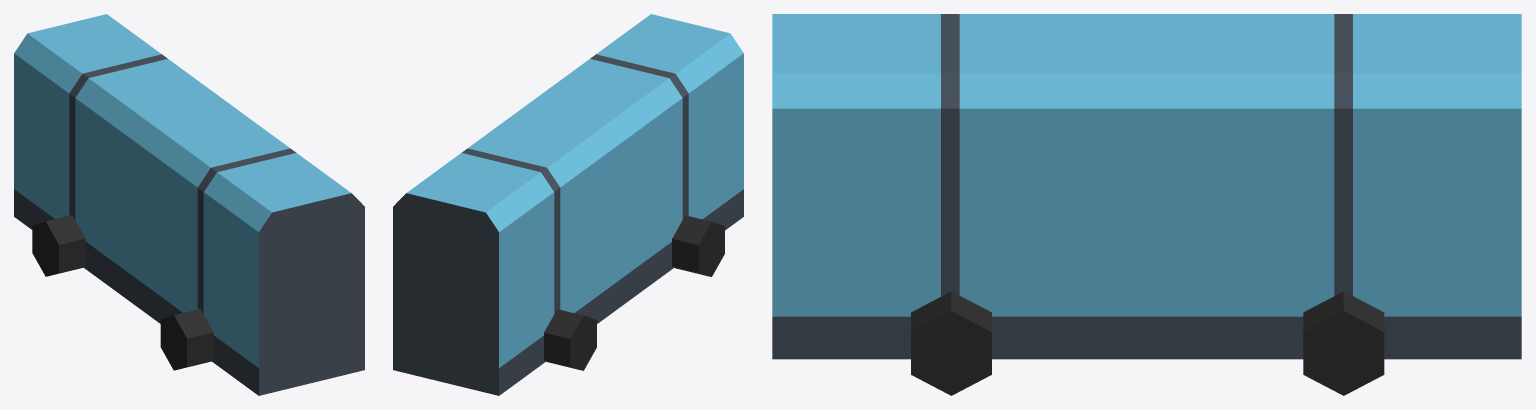
File: FreightContainer.fbx
The picture shows the model from 3 angles, left to right: view 1: azimuth 30°, elevation 25°; view 2: azimuth 150°, elevation 25°; view 3: azimuth 270°, elevation 25°; orthographic projection. The views are drawn at different scales.
Parts seen in each view (by area): view 1: Freight, BackWheel.001, FrontWheel.001; view 2: Freight, FrontWheel.001, BackWheel.001; view 3: Freight, BackWheel.001, FrontWheel.001.
Boxes of the visible parts, box(x1,y1,x2,y2) form: Freight: box(14, 14, 364, 395); BackWheel.001: box(32, 215, 85, 276); FrontWheel.001: box(160, 309, 213, 370); Freight: box(393, 14, 743, 395); FrontWheel.001: box(672, 215, 724, 276); BackWheel.001: box(544, 309, 596, 370); Freight: box(772, 14, 1521, 359); BackWheel.001: box(1303, 291, 1384, 395); FrontWheel.001: box(911, 291, 991, 395).
Size of the model in its own units: 300 by 345 by 800.
